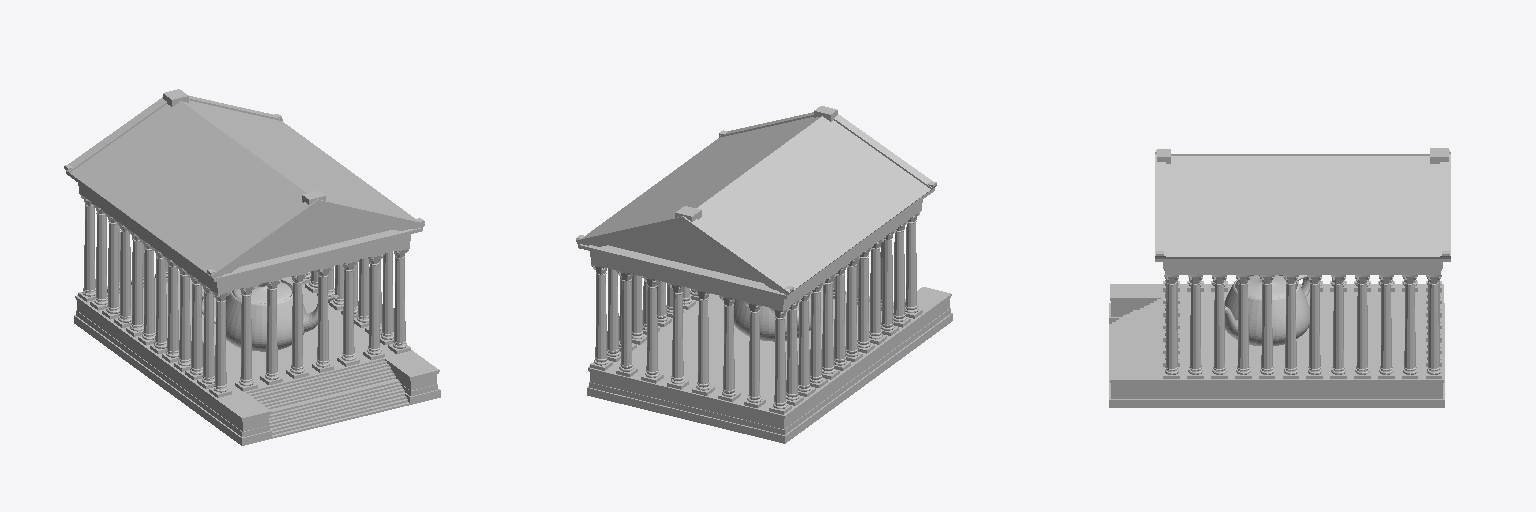
3 views of the same model, side by side, from view 1: azimuth 30°, elevation 25°; view 2: azimuth 150°, elevation 25°; view 3: azimuth 270°, elevation 25° (orthographic).
Visible parts, largest first — view 1: 3d-model, teapot; view 2: 3d-model, teapot; view 3: 3d-model, teapot.
Boxes of the visible parts, <box> form: 3d-model: <box>64,89,440,445</box>; teapot: <box>202,280,338,351</box>; 3d-model: <box>576,106,952,443</box>; teapot: <box>734,294,810,341</box>; 3d-model: <box>1109,148,1450,407</box>; teapot: <box>1225,275,1309,345</box>.
Bounding box in the file's own units: 7.17 × 6.63 × 9.95.